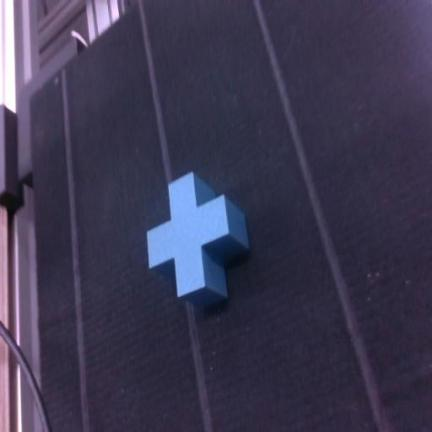cross: (147, 173, 248, 305)
